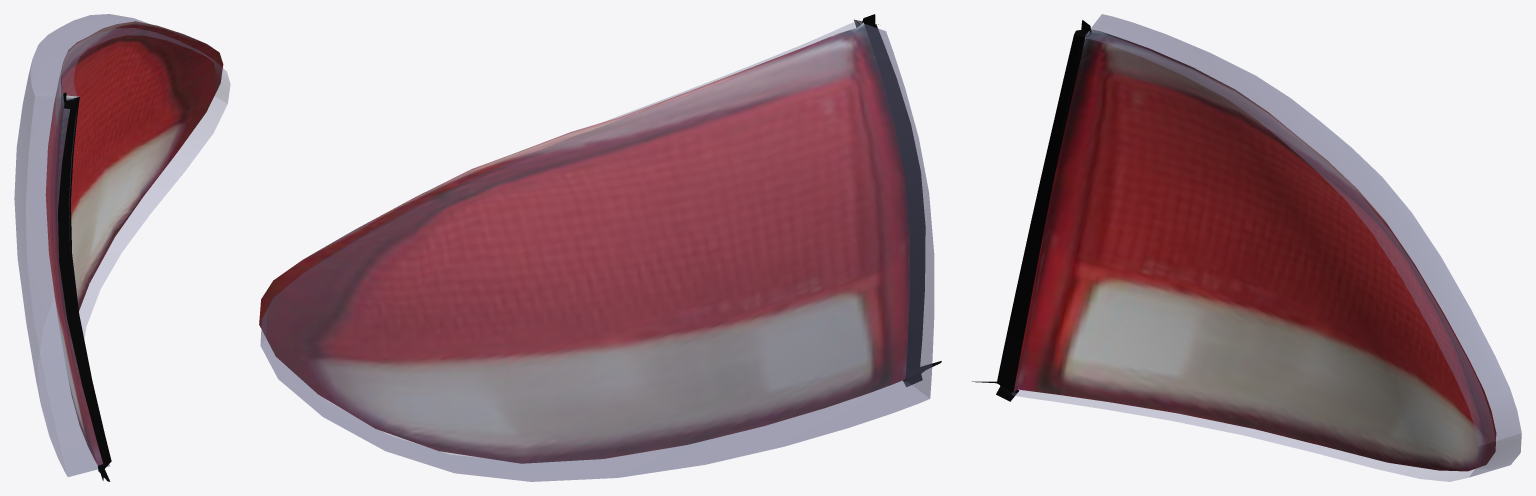
The picture shows the model from 3 angles, left to right: view 1: azimuth 30°, elevation 25°; view 2: azimuth 150°, elevation 25°; view 3: azimuth 270°, elevation 25°; orthographic projection. The views are drawn at different scales.
Visible parts, largest first — view 1: U234_541C_L_1_N_U234_541C_L, U234_541C_L_U234_541C_L_2_DTaSI, U234_541C_L_U234_541C_L_3_D; view 2: U234_541C_L_U234_541C_L_2_DTaSI, U234_541C_L_1_N_U234_541C_L, U234_541C_L_U234_541C_L_3_D; view 3: U234_541C_L_1_N_U234_541C_L, U234_541C_L_U234_541C_L_2_DTaSI, U234_541C_L_U234_541C_L_3_D.
Boxes of the visible parts, x1,y1,x2,y2 form: U234_541C_L_1_N_U234_541C_L: [45, 21, 223, 465]; U234_541C_L_U234_541C_L_2_DTaSI: [14, 14, 230, 476]; U234_541C_L_U234_541C_L_3_D: [58, 92, 111, 481]; U234_541C_L_U234_541C_L_2_DTaSI: [260, 22, 934, 481]; U234_541C_L_1_N_U234_541C_L: [259, 19, 909, 463]; U234_541C_L_U234_541C_L_3_D: [854, 14, 941, 386]; U234_541C_L_1_N_U234_541C_L: [1013, 29, 1496, 471]; U234_541C_L_U234_541C_L_2_DTaSI: [1011, 14, 1521, 481]; U234_541C_L_U234_541C_L_3_D: [972, 20, 1091, 401].
Bounding box in the file's own units: 22.84 × 19.82 × 26.14.
